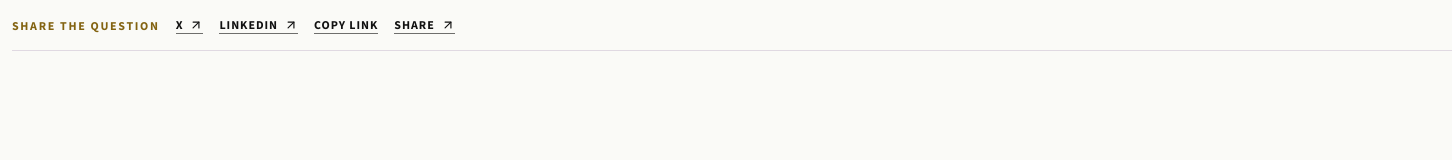
Scenario: ShareRail › falls back to 'Use Copy link' when there's no share sheet
What coordinates should you click on to do the following:
click the button "Share"
I would click on:
 (424, 26)
Its box is [394, 17, 455, 34].
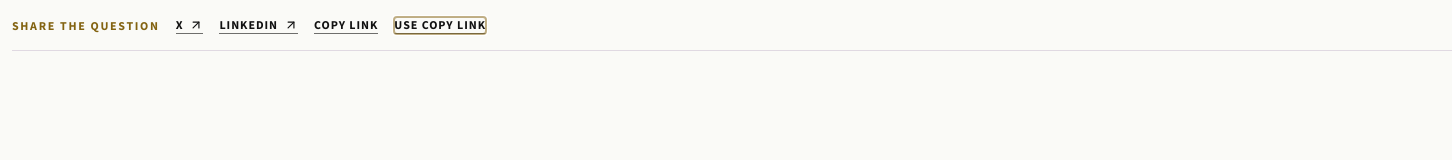
Now the button "Use Copy link" is shown, box [394, 17, 486, 34]
